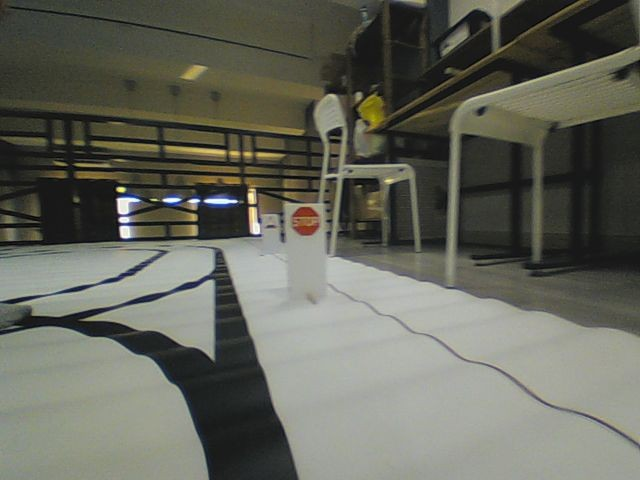Stop: (290, 205, 321, 236)
